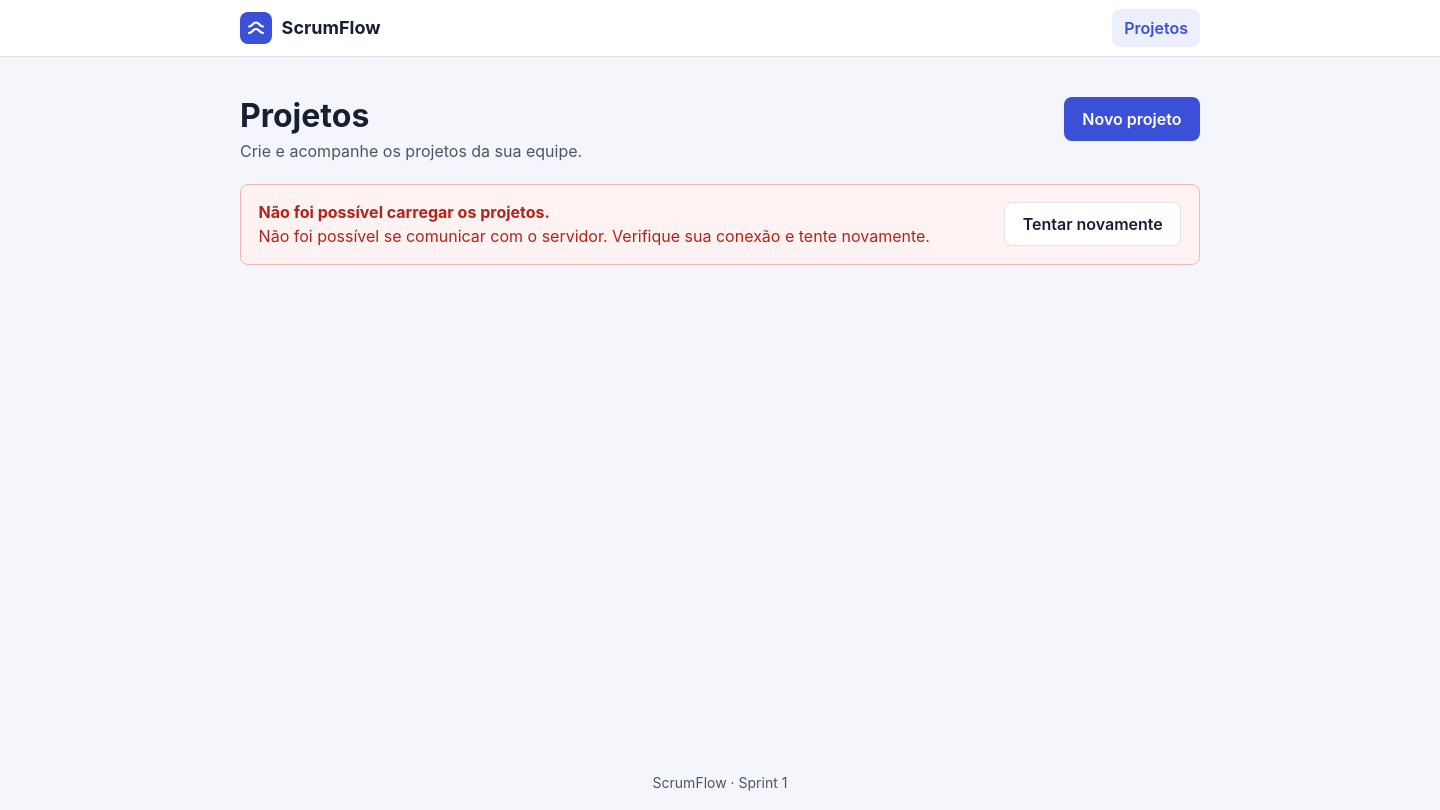
Test: Listagem de projetos (AC01) › falha de comunicação mostra erro e permite tentar novamente (AC06)
The image size is (1440, 810).
Expected: the message shows "Não foi possível carregar os projetos.", left=259, top=202, right=550, bottom=222
Expected: the message shows "Não foi possível se comunicar com o servidor", left=259, top=226, right=930, bottom=246
Click the button "Tentar novamente".
click(1093, 224)  # box left=1004, top=202, right=1181, bottom=246
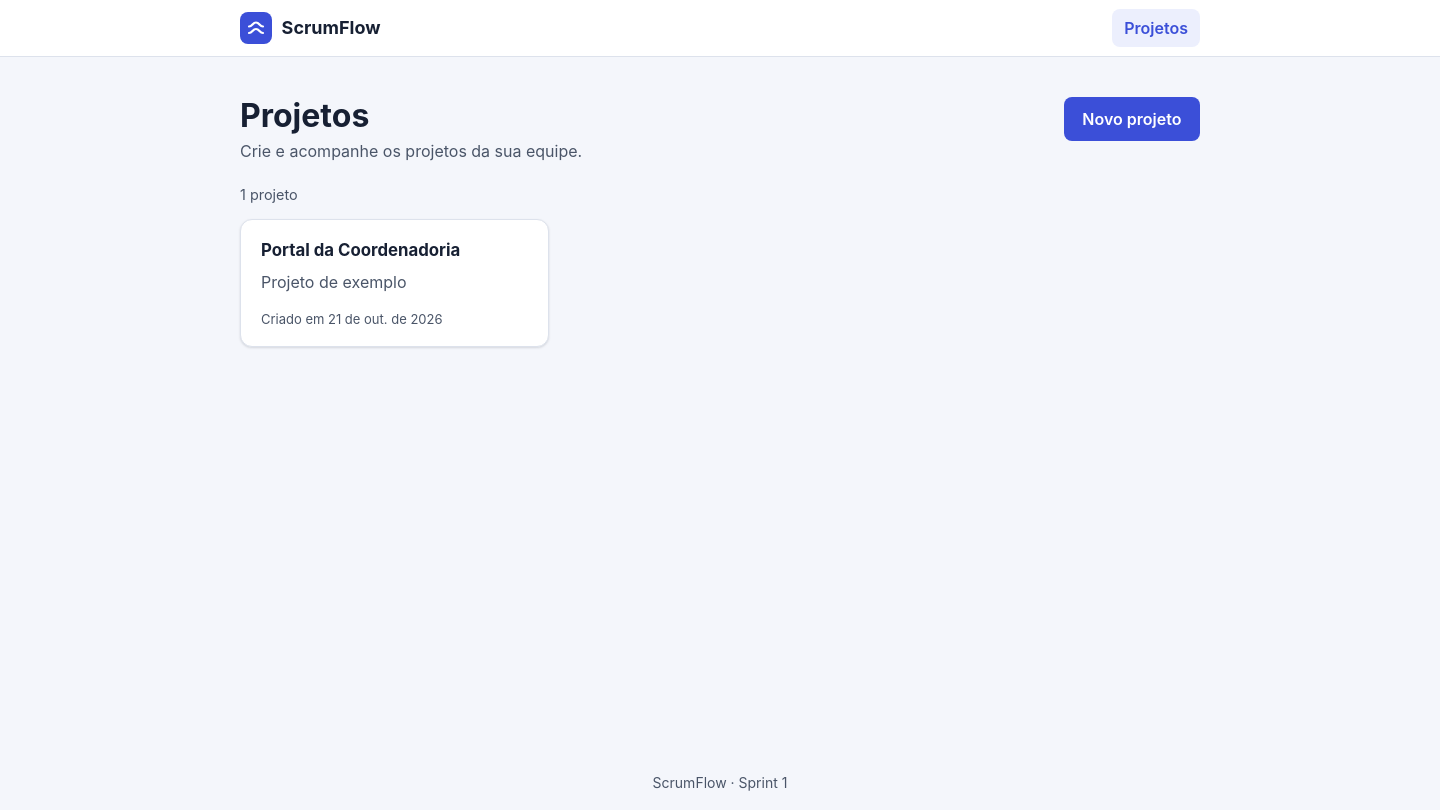
Now the text "Portal da Coordenadoria" is shown, box left=261, top=240, right=460, bottom=260
Now the message is gone
